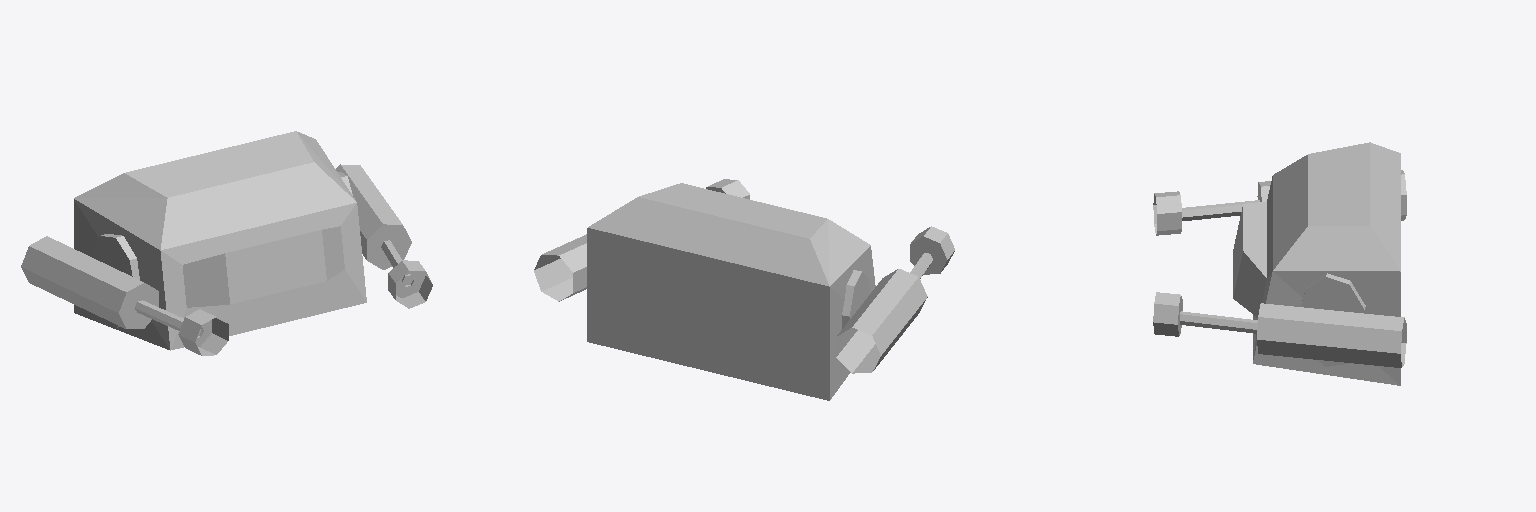
Rendered from cañón laser.obj.
3 renders of one model, left to right at view 1: azimuth 30°, elevation 25°; view 2: azimuth 150°, elevation 25°; view 3: azimuth 270°, elevation 25°, orthographic.
Parts seen in each view (by area): view 1: Object001; view 2: Object001; view 3: Object001.
Part boxes in pixels (x1,y1,x2,y2): Object001: (21,131,432,355); Object001: (534,179,954,400); Object001: (1153,142,1406,385).
Bounding box in the file's own units: 110 × 42.96 × 69.25.